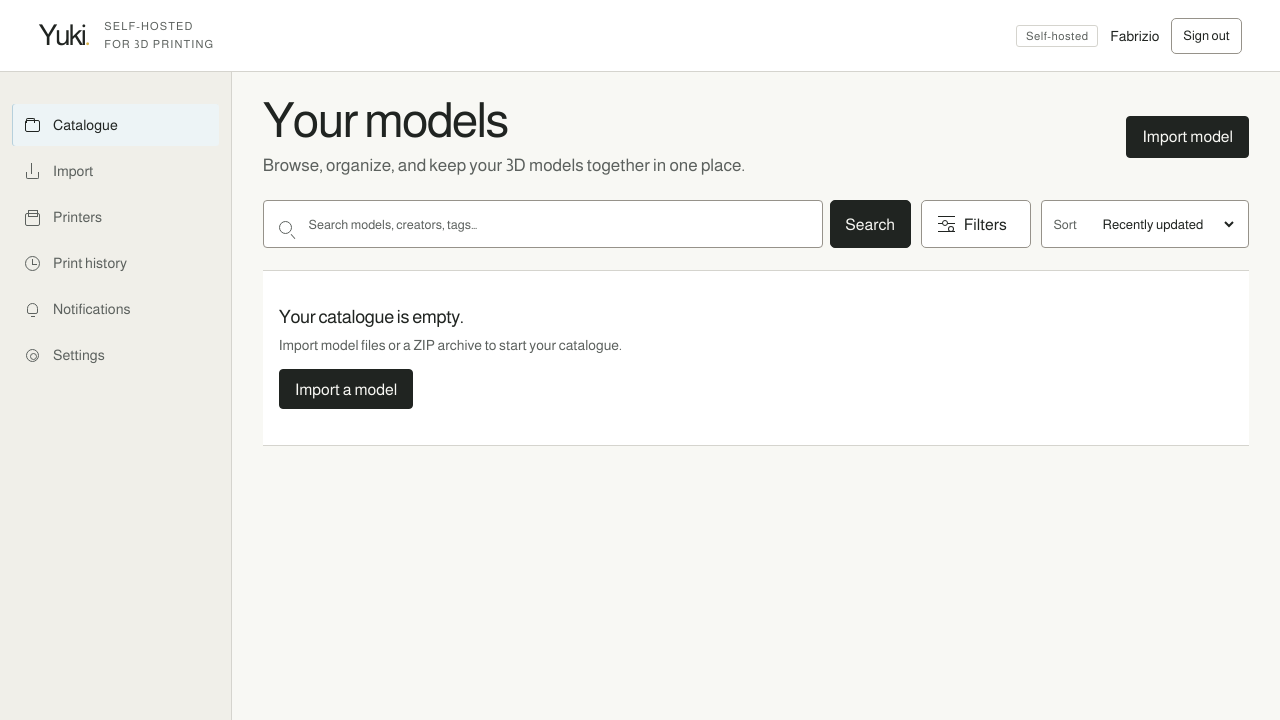
identity session flows › restores an authenticated session without browser token storage and signs out
Expected: the text "Fabrizio" is shown, [1110, 28, 1160, 44]
Click the button "Sign out": {"x": 1207, "y": 36} [1172, 18, 1242, 54]
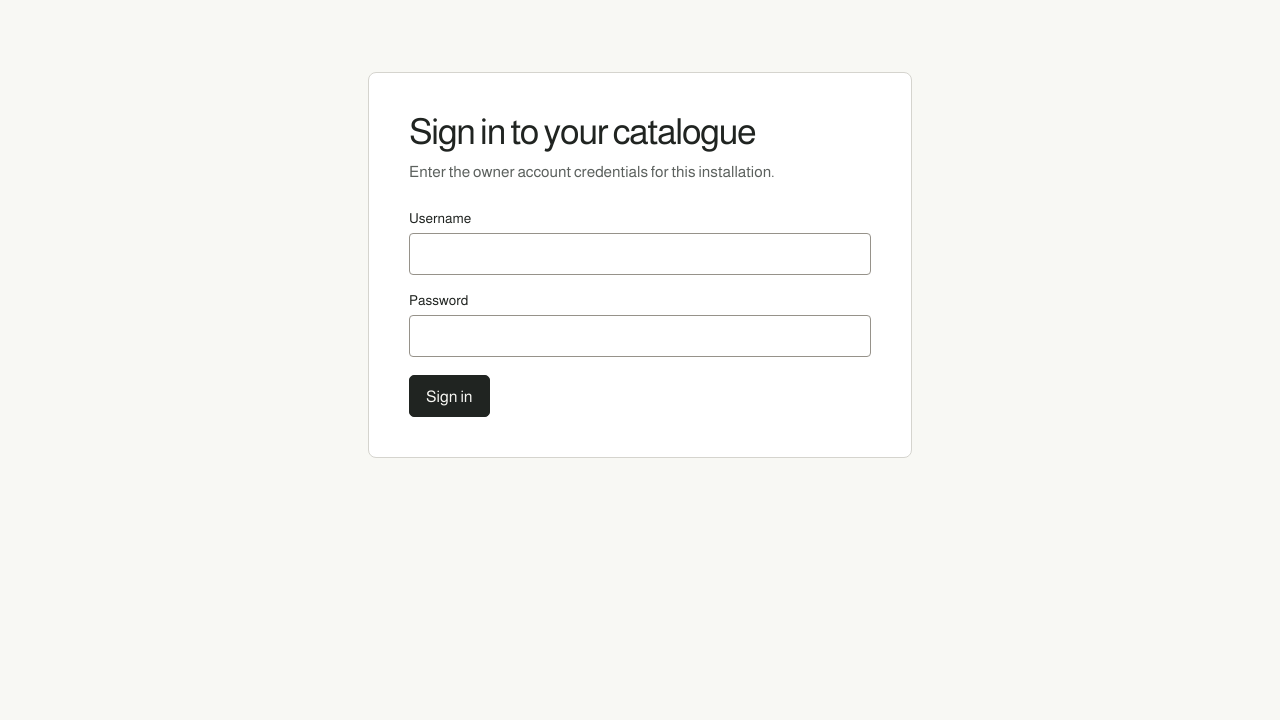
Expected: the heading "Sign in to your catalogue" is shown, [409, 111, 756, 152]
